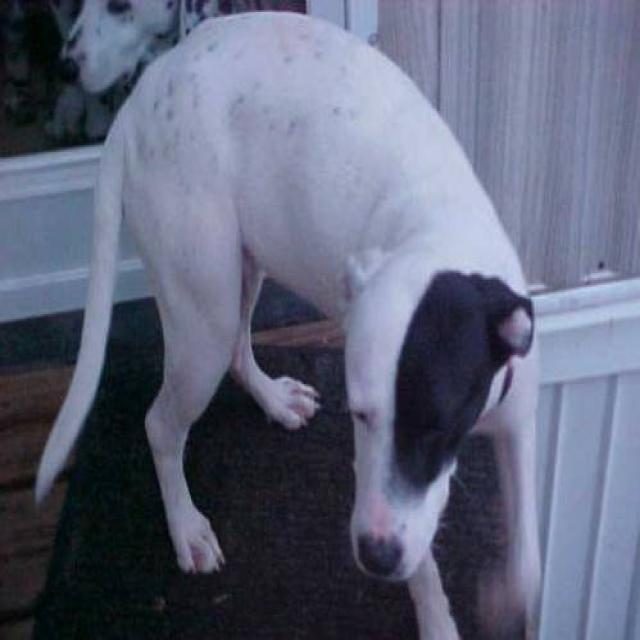dog: (32, 2, 539, 638)
